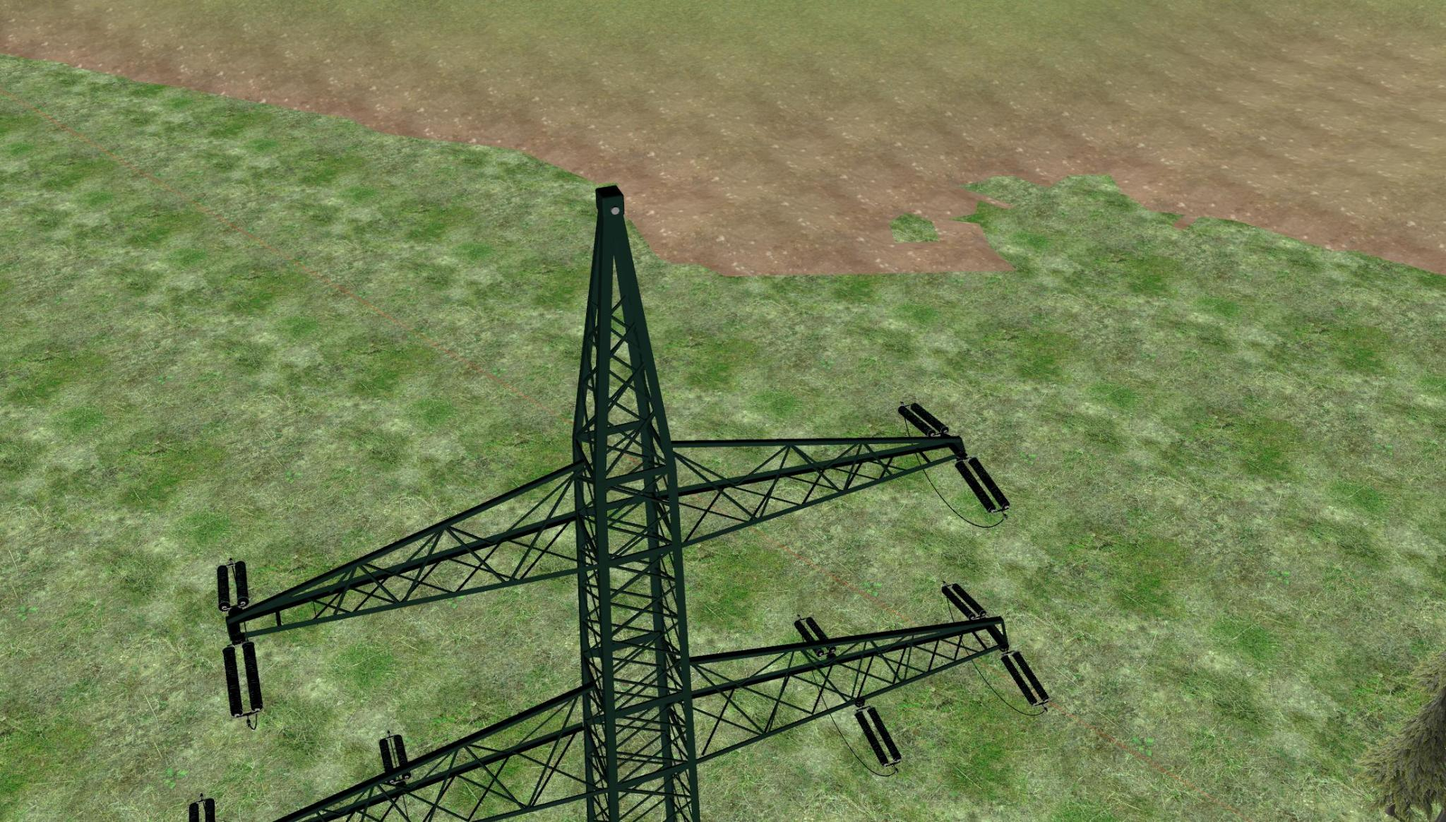tower: (210, 184, 1015, 822)
